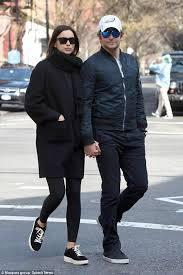Person: (24, 24, 101, 265), (80, 14, 149, 264)
